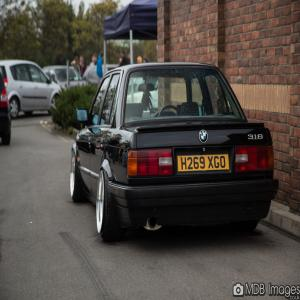Vehicle-registration-plate: (178, 156, 231, 172)
